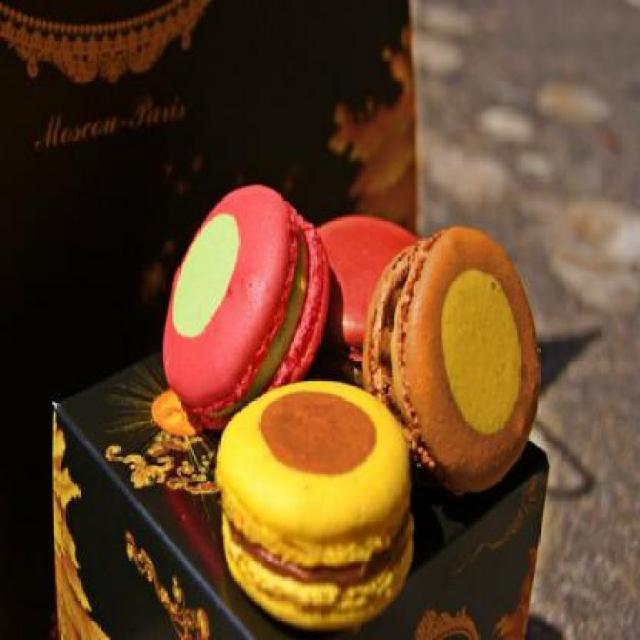Macaron: (153, 180, 550, 638)
